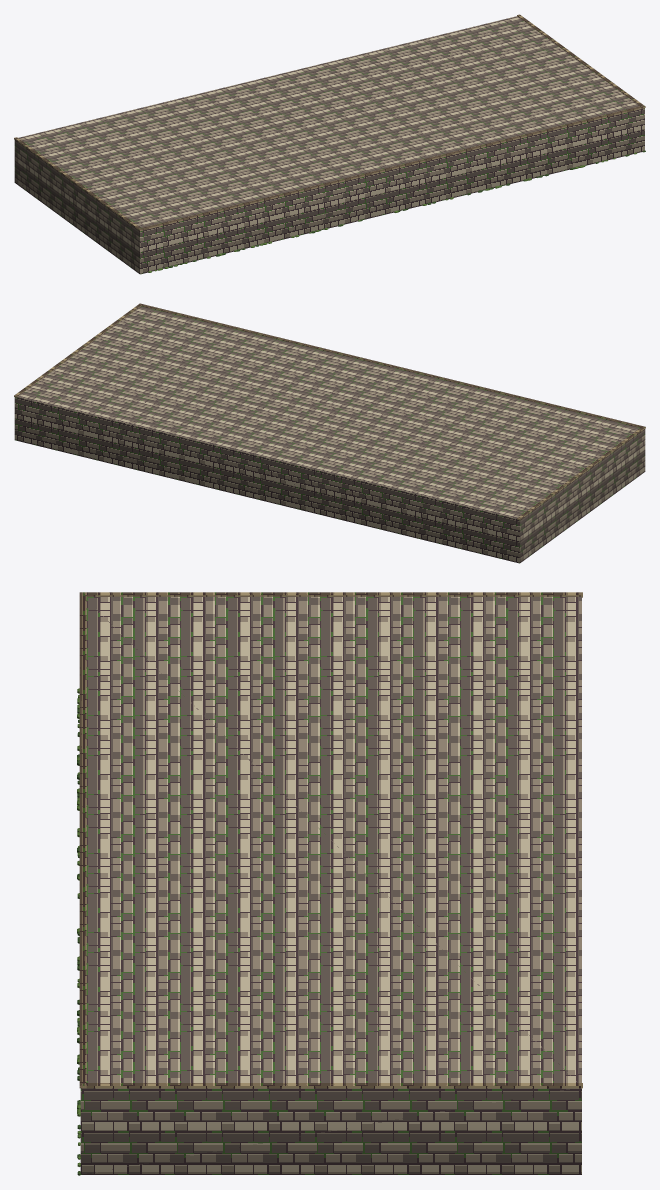
Rendered from scene_wall_n.glb.
3 views of the same model, one above another, from view 1: azimuth 30°, elevation 25°; view 2: azimuth 150°, elevation 25°; view 3: azimuth 270°, elevation 25° (orthographic). The views are drawn at different scales.
Parts seen in each view (by area): view 1: scene_wall_n; view 2: scene_wall_n; view 3: scene_wall_n.
Part boxes in pixels (left/top/right/bottom): scene_wall_n: left=14, top=14, right=645, bottom=274; scene_wall_n: left=14, top=303, right=645, bottom=563; scene_wall_n: left=77, top=592, right=582, bottom=1175.
Bounding box in the file's own units: 60.12 × 5.17 × 26.04.
2 materials, 1 textured.
